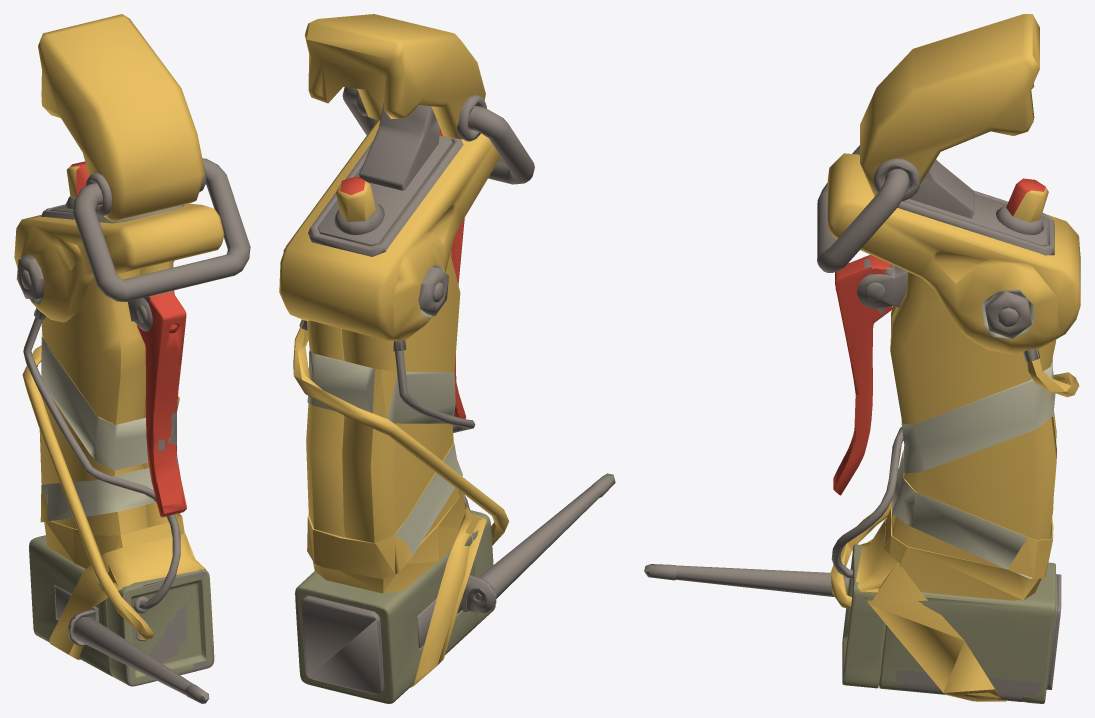
Rendered from detonator.glb.
3 renders of one model, left to right at view 1: azimuth 30°, elevation 25°; view 2: azimuth 150°, elevation 25°; view 3: azimuth 270°, elevation 25°, orthographic. The views are drawn at different scales.
Parts seen in each view (by area): view 1: Cube.015, Cube.015_Material.004_0.001, Cube.015_Material.004_0.002; view 2: Cube.015, Cube.015_Material.004_0.001, Cube.015_Material.004_0.002; view 3: Cube.015, Cube.015_Material.004_0.001, Cube.015_Material.004_0.002.
Boxes of the visible parts, x1,y1,x2,y2 form: Cube.015: (14, 14, 250, 686); Cube.015_Material.004_0.001: (23, 291, 214, 686); Cube.015_Material.004_0.002: (16, 257, 209, 703); Cube.015: (279, 14, 534, 703); Cube.015_Material.004_0.001: (295, 218, 495, 703); Cube.015_Material.004_0.002: (283, 248, 615, 612); Cube.015: (817, 14, 1080, 703); Cube.015_Material.004_0.001: (831, 255, 1061, 703); Cube.015_Material.004_0.002: (644, 257, 1039, 596).
Size of the model in its own units: 10.79 by 41.31 by 25.13.
